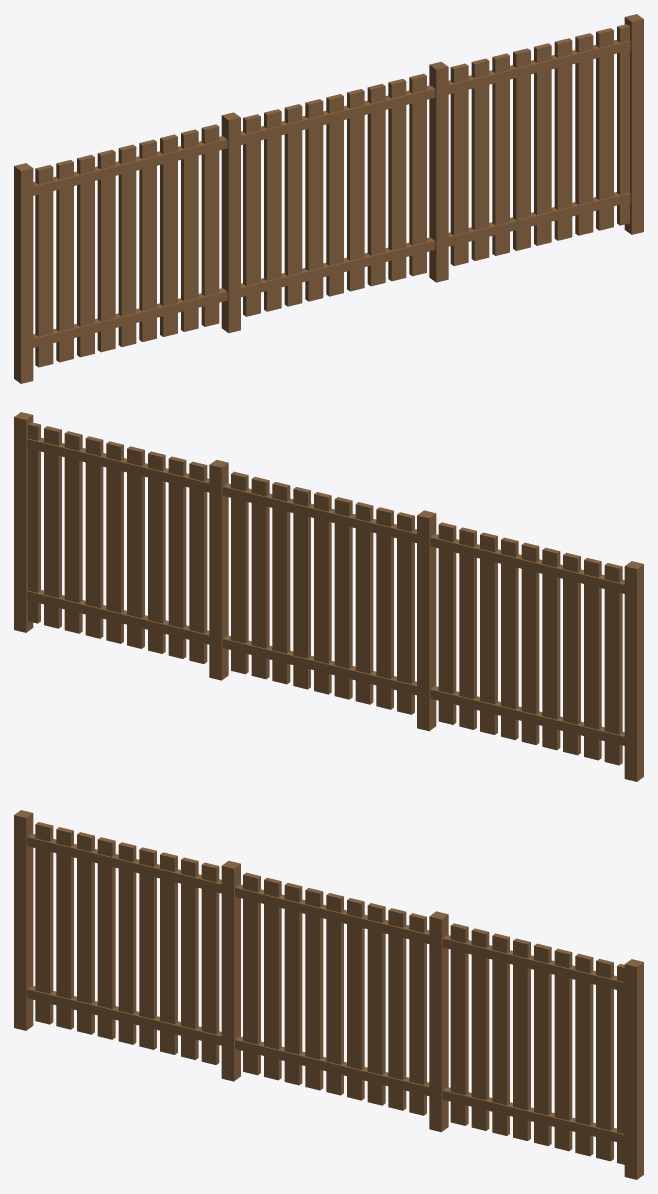
The picture shows the model from 3 angles, top to bottom: view 1: azimuth 30°, elevation 25°; view 2: azimuth 150°, elevation 25°; view 3: azimuth 330°, elevation 25°; orthographic projection.
Visible parts, largest first — view 1: Деревянное; view 2: Деревянное; view 3: Деревянное.
Part boxes in pixels (x1=…): Деревянное: x1=14, y1=14, x2=643, y2=383; Деревянное: x1=14, y1=412, x2=643, y2=781; Деревянное: x1=14, y1=810, x2=643, y2=1179.
Size of the model in its own units: 5.1 by 1.66 by 0.1.
